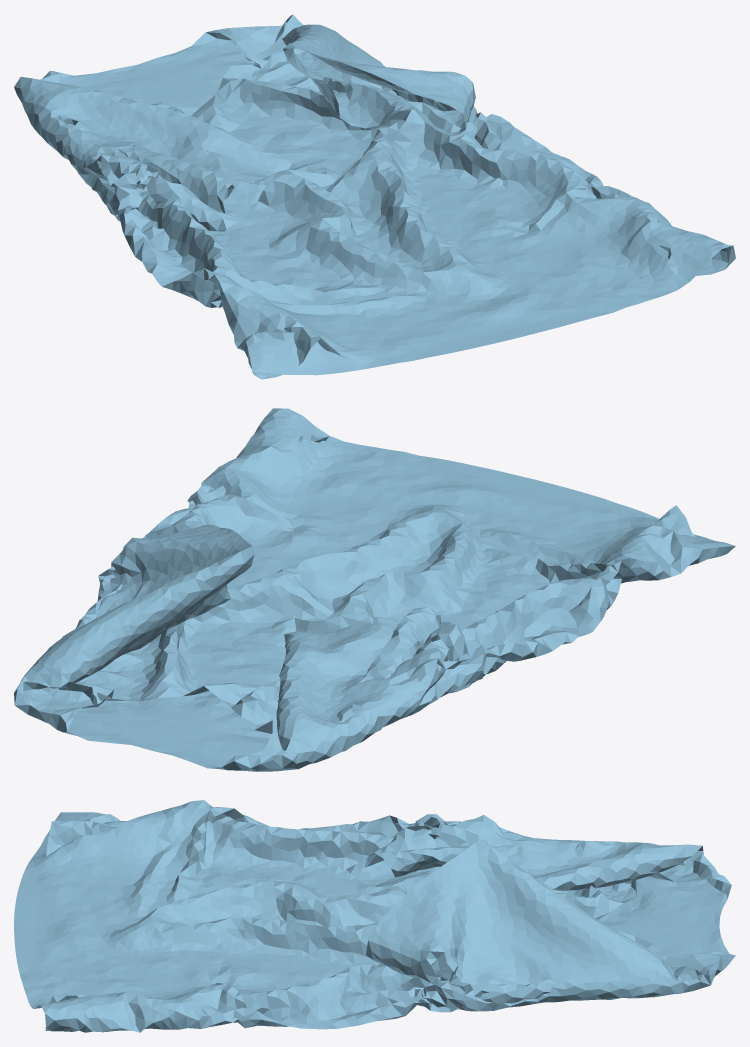
Rendered from frame_17.glb.
3 renders of one model, top to bottom at view 1: azimuth 30°, elevation 25°; view 2: azimuth 150°, elevation 25°; view 3: azimuth 270°, elevation 25°, orthographic. The views are drawn at different scales.
Parts seen in each view (by area): view 1: frame_17.obj; view 2: frame_17.obj; view 3: frame_17.obj.
Boxes of the visible parts, left/top/right/bottom form: frame_17.obj: left=14, top=14, right=735, bottom=379; frame_17.obj: left=14, top=408, right=735, bottom=771; frame_17.obj: left=14, top=800, right=735, bottom=1032.
Size of the model in its own units: 1.21 by 0.279 by 1.7.
